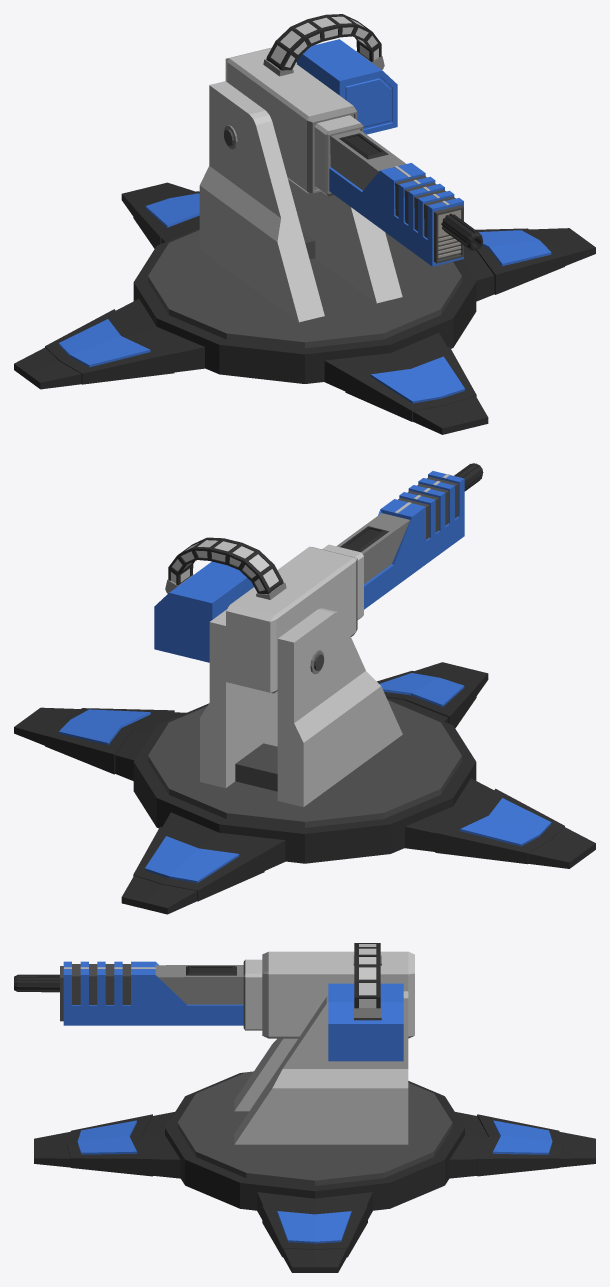
Rendered from Turret_2.fbx.
3 renders of one model, top to bottom at view 1: azimuth 30°, elevation 25°; view 2: azimuth 150°, elevation 25°; view 3: azimuth 270°, elevation 25°, orthographic. The views are drawn at different scales.
Parts seen in each view (by area): view 1: Cylinder.001, Cube.001, Cylinder.007, Cylinder, Cylinder.003, Cube.004, Cube.002, Cube.025, Cube.006, Cylinder.008, Cylinder.006, Cube.016 (+4 smaller); view 2: Cylinder.001, Cube.001, Cylinder.007, Cylinder, Cube.002, Cylinder.003, Cube.004, Cube.025, Cube.006, Cylinder.008, Cylinder.006, Cube.016 (+3 smaller); view 3: Cube.025, Cylinder.001, Cube.004, Cylinder.003, Cylinder, Cube.002, Cylinder.007, Cube.006, Cylinder.006, Cylinder.008, Cube.016, Cube.001 (+3 smaller).
Part boxes in pixels (x1,y1,x2,y2): Cylinder.001: (148, 230, 461, 348); Cube.001: (199, 81, 324, 322); Cylinder.007: (14, 228, 595, 389); Cylinder: (133, 228, 476, 383); Cylinder.003: (121, 182, 488, 434); Cube.004: (329, 129, 463, 266); Cube.002: (225, 47, 357, 194); Cube.025: (288, 179, 402, 303); Cube.006: (296, 39, 397, 134); Cylinder.008: (59, 230, 551, 367); Cylinder.006: (145, 193, 464, 403); Cube.016: (266, 14, 381, 70); Cylinder.001: (148, 700, 461, 827); Cube.001: (277, 608, 402, 807); Cylinder.007: (14, 707, 595, 868); Cylinder: (133, 698, 476, 863); Cube.002: (226, 546, 357, 693); Cylinder.003: (121, 662, 488, 914); Cube.004: (336, 471, 464, 609); Cube.025: (200, 610, 277, 788); Cube.006: (154, 561, 253, 662); Cylinder.008: (59, 709, 551, 846); Cylinder.006: (145, 673, 464, 883); Cube.016: (168, 537, 283, 594); Cube.025: (234, 991, 408, 1144); Cylinder.001: (177, 1071, 452, 1185); Cube.004: (63, 961, 243, 1025); Cylinder.003: (34, 1112, 595, 1178); Cylinder: (165, 1072, 464, 1210); Cube.002: (262, 951, 414, 1038); Cylinder.007: (257, 1192, 372, 1272); Cube.006: (328, 983, 403, 1061); Cylinder.006: (77, 1120, 552, 1154); Cylinder.008: (277, 1211, 351, 1243); Cube.016: (354, 943, 380, 1008); Cube.001: (234, 1038, 297, 1111).
Bounding box in the file's own units: 612 × 269 × 634.
